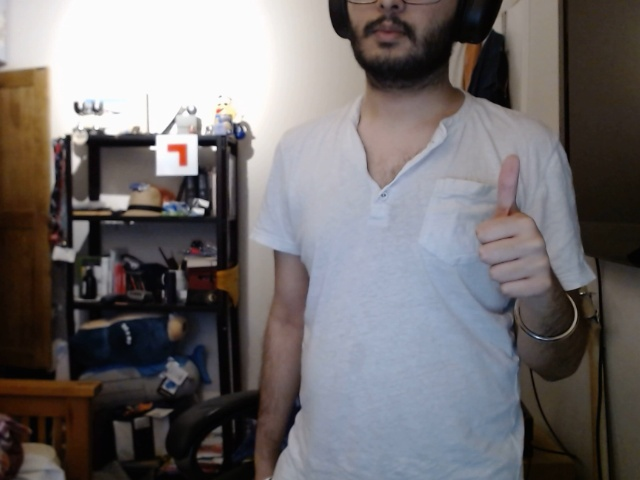Thumbs up: (463, 152, 562, 312)
